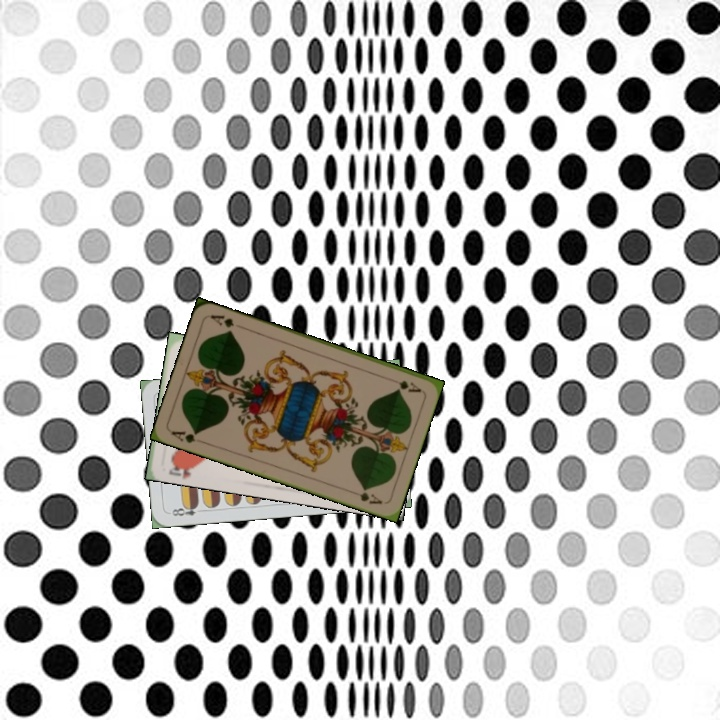E8: (168, 500, 206, 519)
GA: (385, 374, 423, 395), (167, 427, 201, 446)
HO: (165, 458, 199, 481)
